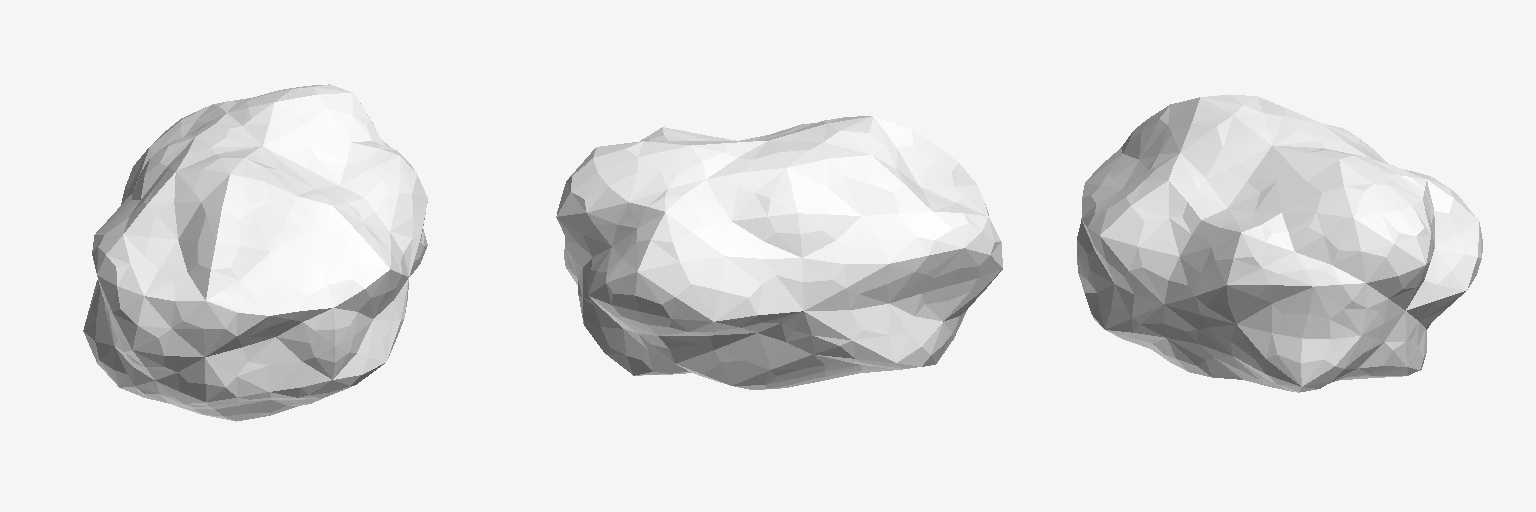
The picture shows the model from 3 angles: view 1: azimuth 30°, elevation 25°; view 2: azimuth 150°, elevation 25°; view 3: azimuth 270°, elevation 25°; orthographic projection.
Visible parts, largest first — view 1: clouds_pCube4; view 2: clouds_pCube4; view 3: clouds_pCube4.
Part boxes in pixels (x1,y1,x2,y2): clouds_pCube4: (83,84,427,421); clouds_pCube4: (556,116,1002,389); clouds_pCube4: (1077,94,1482,392).
Bounding box in the file's own units: 2.3 × 1.52 × 2.22.
1 materials, 1 textured.